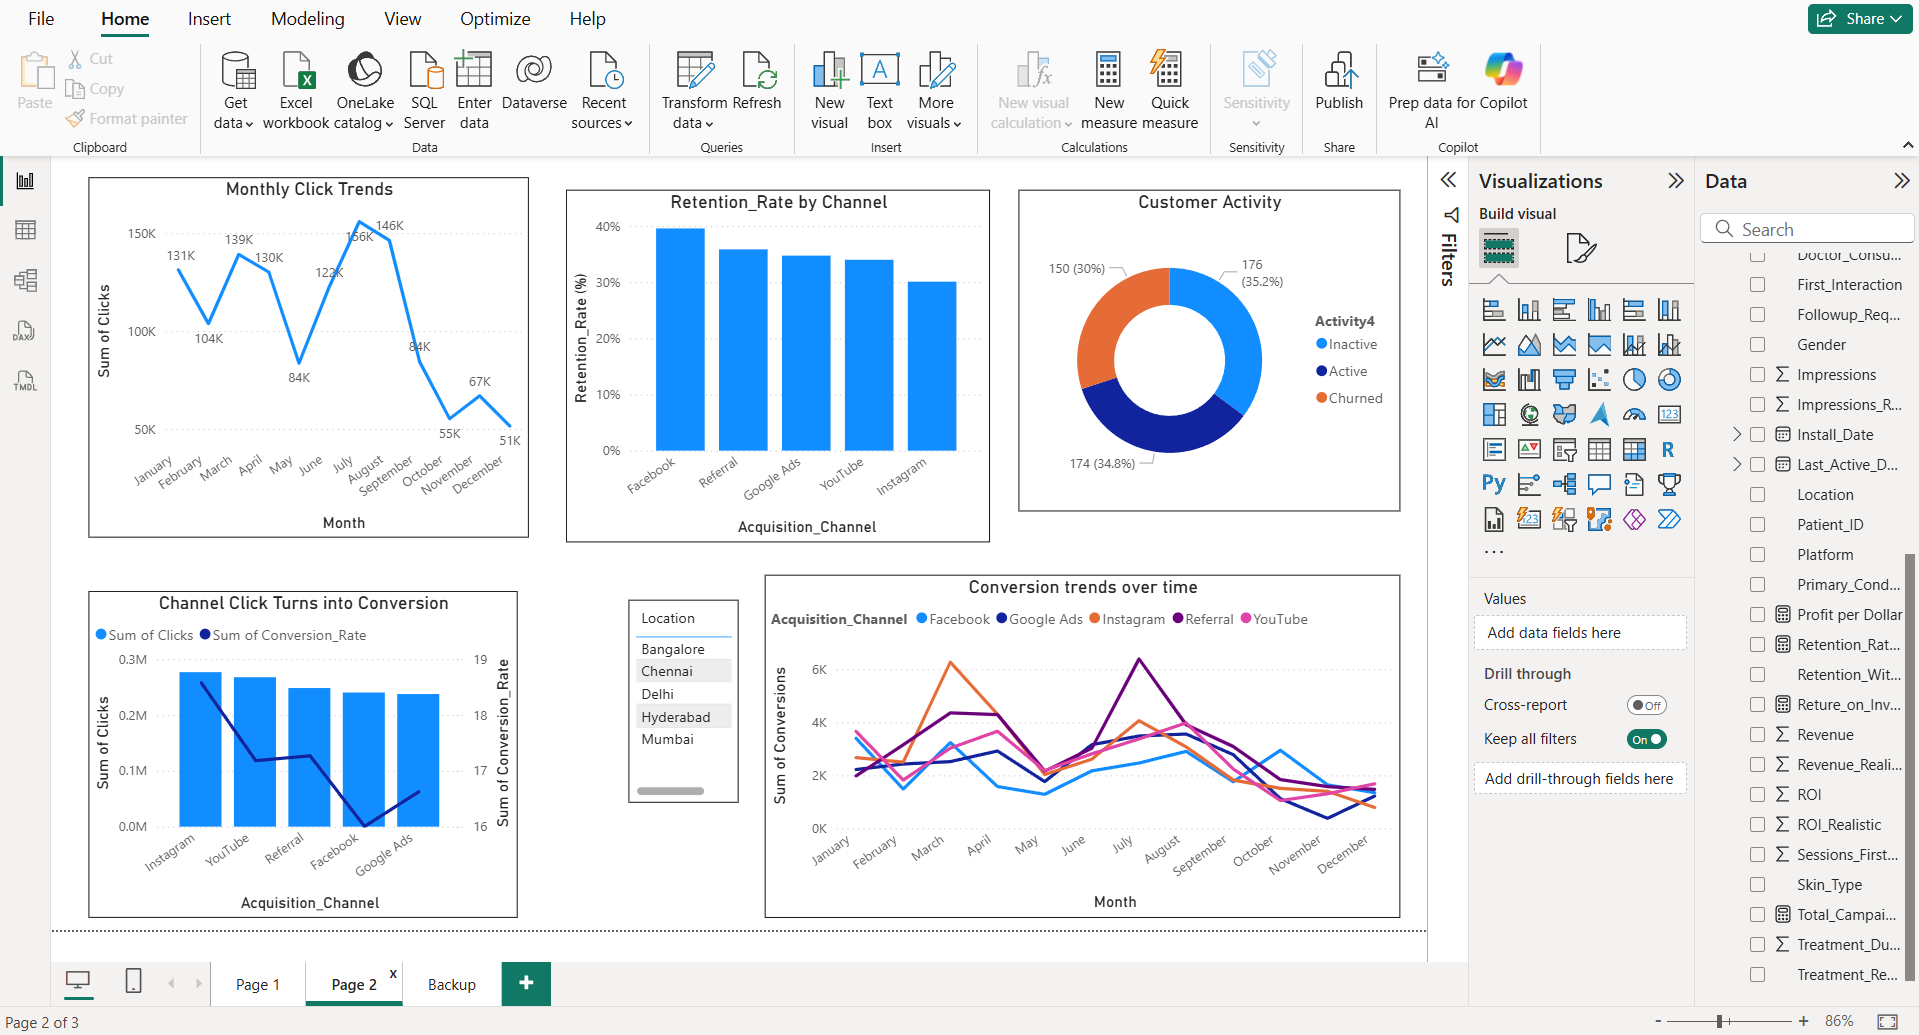

Layout of this report page (visuals, bound fields, positions):
{"tool":"powerbi","page":{"name":"Page 2","canvas":[1280,720],"ordinal":1},"visuals":[{"type":"lineStackedColumnComboChart","title":"Channel Click Turns into Conversion","fields":{"Category":["Customer.Acquisition_Channel"],"Y":["Sum(Customer.Clicks)"],"Y2":["Sum(Customer.Conversion_Rate)"]},"box":[35.1,404.8,399.1,304.1],"z":0},{"type":"clusteredColumnChart","title":"Retention_Rate by Channel","fields":{"Category":["Customer.Acquisition_Channel"],"Y":["Customer.Retention_Rate (%)"]},"box":[479.4,31.7,394.6,327.9],"z":1000},{"type":"lineChart","title":"Conversion trends over time","fields":{"Category":["Customer.Install_Date.Variation.Date Hierarchy.Month"],"Y":["Sum(Customer.Conversions)"],"Series":["Customer.Acquisition_Channel"]},"box":[663.7,390.1,591.3,318.8],"z":2000},{"type":"lineChart","title":"Monthly Click Trends","fields":{"Category":["Customer.Install_Date.Variation.Date Hierarchy.Month"],"Y":["Sum(Customer.Clicks)"]},"box":[35.1,19.5,409.6,335.5],"z":3000},{"type":"donutChart","title":"Customer Activity","fields":{"Category":["Customer.Retention_Within_3month"],"Y":["CountNonNull(Customer.Patient_ID)"]},"box":[899.8,31.2,355,299.1],"z":4000},{"type":"tableEx","fields":{"Values":["Customer.Location"]},"box":[537.2,412.9,102.3,188.8],"z":5000}]}

Visuals, with their boxes on the page's 1280x720 design canvas (x1, y1, x2, y2). These are canvas units, not pixel positions in the 1919x1035 screenshot, which may show the page scaled, cropped or inside an application window:
"Channel Click Turns into Conversion" lineStackedColumnComboChart: x1=35, y1=405, x2=434, y2=709
"Retention_Rate by Channel" clusteredColumnChart: x1=479, y1=32, x2=874, y2=360
"Conversion trends over time" lineChart: x1=664, y1=390, x2=1255, y2=709
"Monthly Click Trends" lineChart: x1=35, y1=20, x2=445, y2=355
"Customer Activity" donutChart: x1=900, y1=31, x2=1255, y2=330
tableEx - Customer.Location: x1=537, y1=413, x2=640, y2=602
